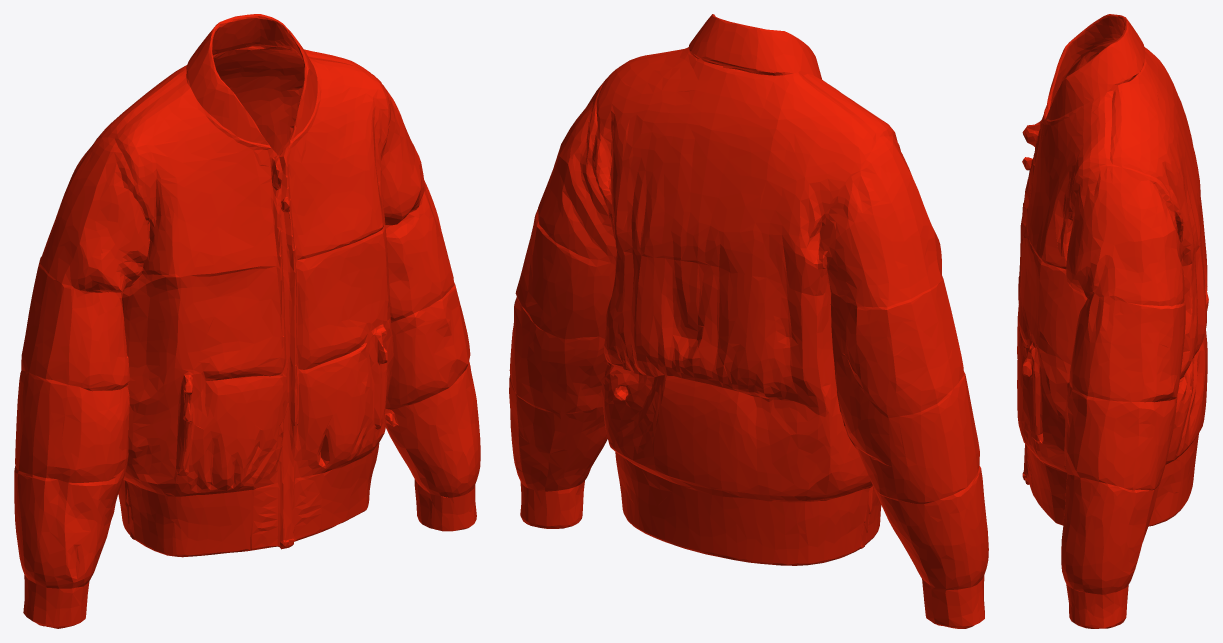
File: bomber-jacket.glb
3 renders of one model, left to right at view 1: azimuth 30°, elevation 25°; view 2: azimuth 150°, elevation 25°; view 3: azimuth 270°, elevation 25°, orthographic. The views are drawn at different scales.
Parts seen in each view (by area): view 1: chest_mesh; view 2: chest_mesh; view 3: chest_mesh.
Part boxes in pixels (x1,y1,x2,y2): chest_mesh: (14, 14, 480, 628); chest_mesh: (509, 14, 988, 628); chest_mesh: (1017, 14, 1208, 628).
Size of the model in its own units: 0.865 by 0.9966 by 0.3409.
